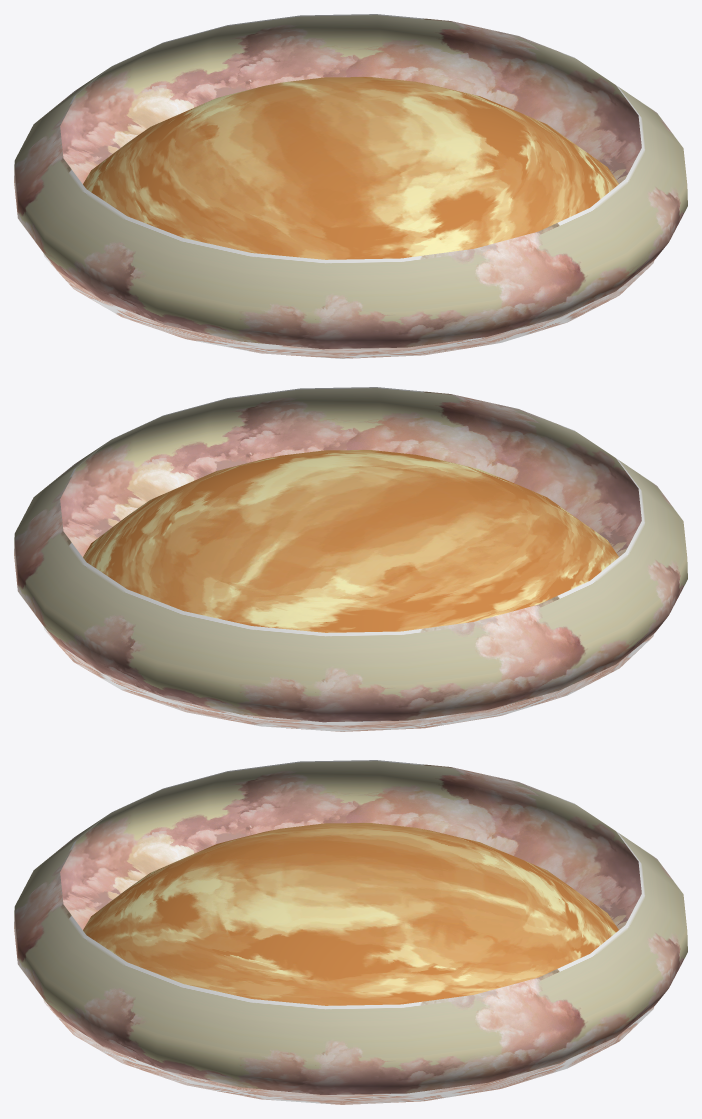
The model's file is Sky.obj.
3 views of the same model, one above another, from view 1: azimuth 30°, elevation 25°; view 2: azimuth 150°, elevation 25°; view 3: azimuth 270°, elevation 25° (orthographic).
Bounding box in the file's own units: 18655 × 4342 × 18655.
